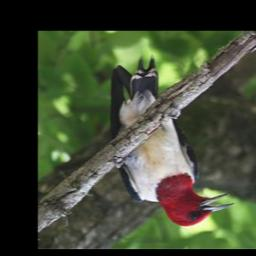Woodpecker: (104, 55, 238, 227)
